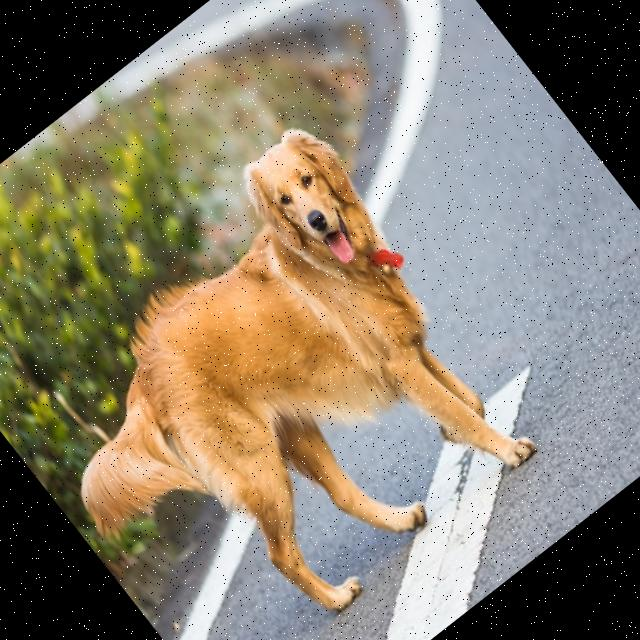Dog: (0, 113, 561, 640)
